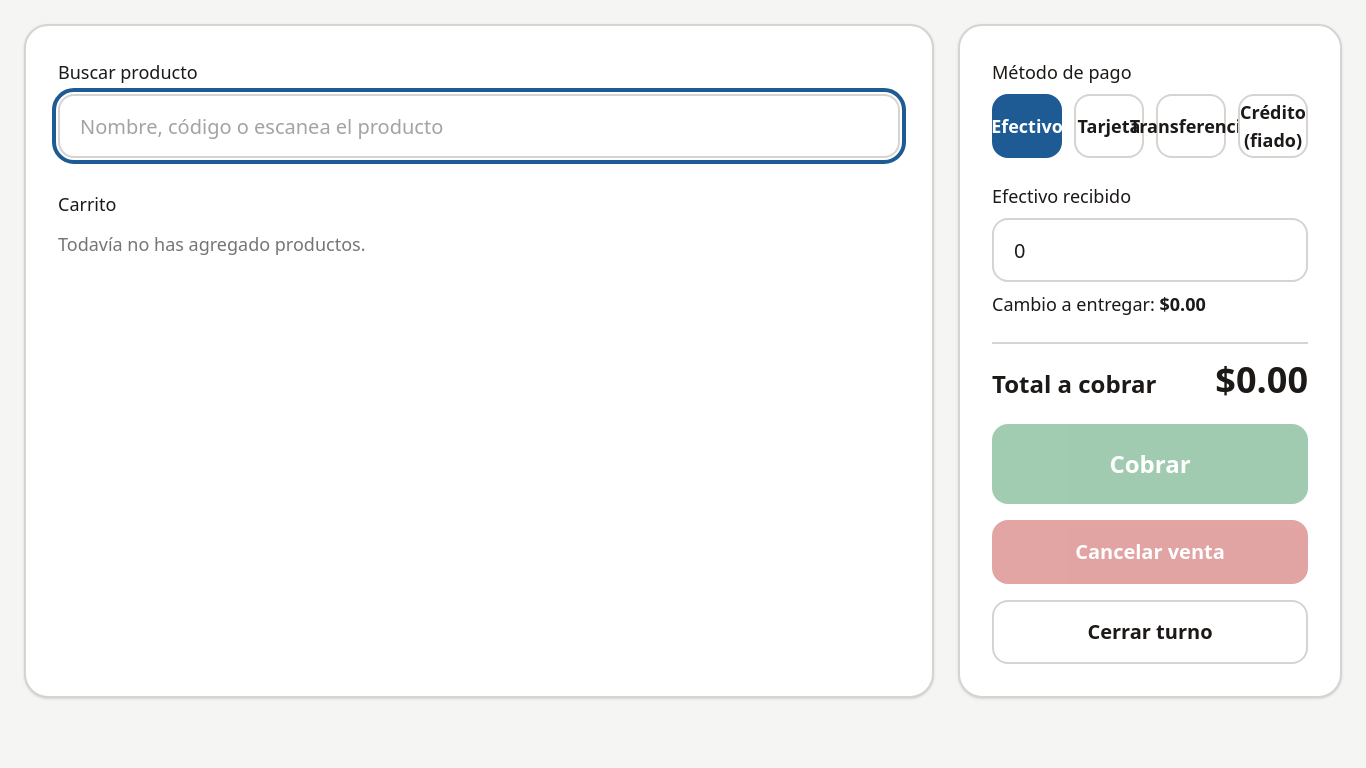
Scenario: SaleScreen › calcula el IVA mixto (16% y 0% en el mismo carrito) — mismo caso probado manualmente contra el backend
Type "refresco" into the field labelled "Buscar producto" at (479, 126), box left=58, top=94, right=900, bottom=158
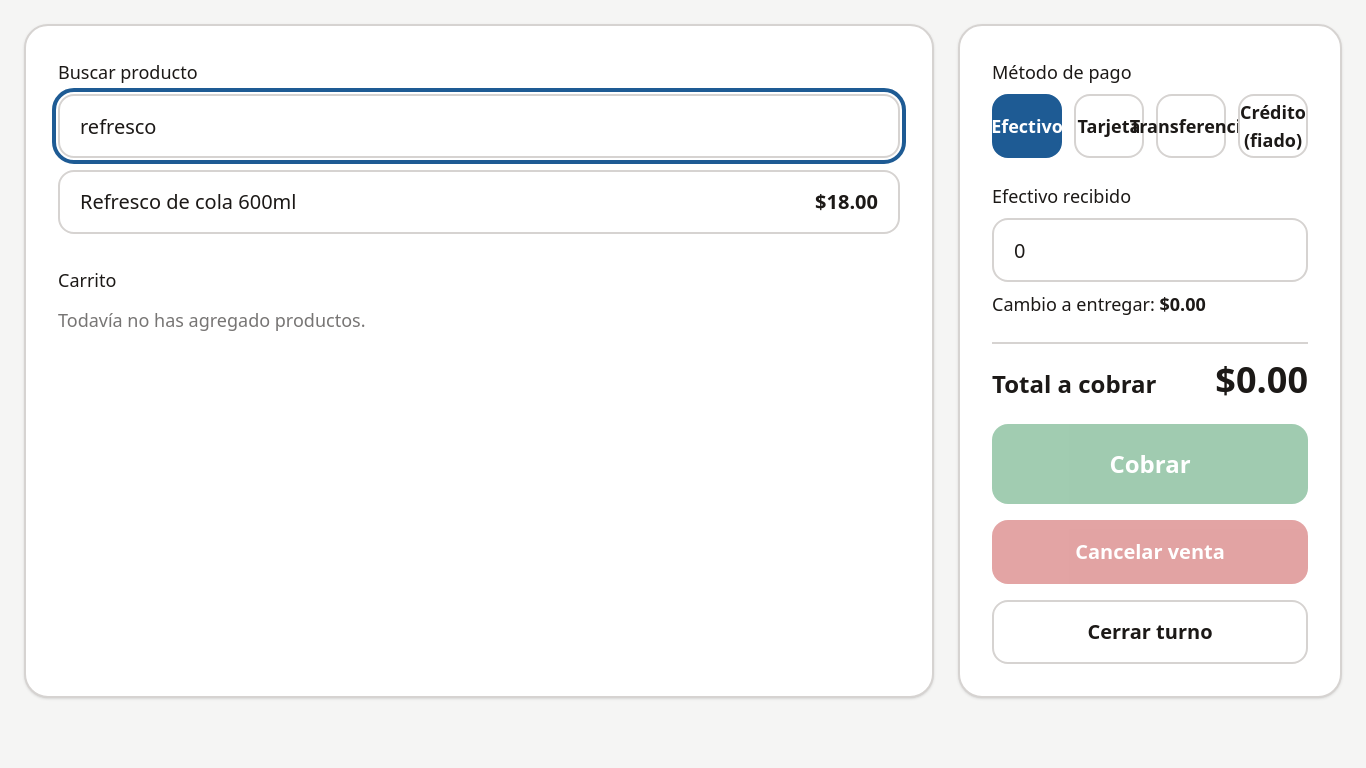
Click the button "Refresco de cola 600ml $18.00" at (188, 202), box left=58, top=170, right=900, bottom=234
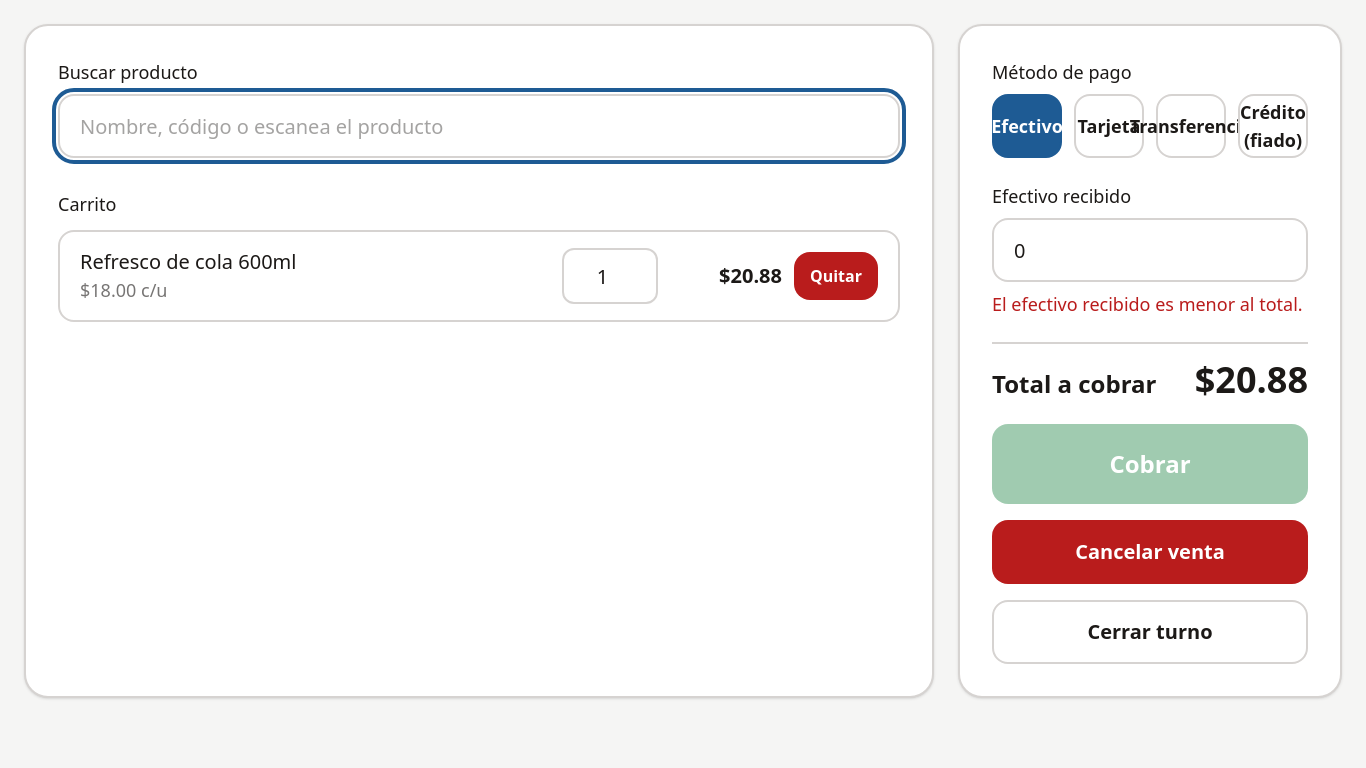
Type "leche" into the field labelled "Buscar producto" at (479, 126), box left=58, top=94, right=900, bottom=158
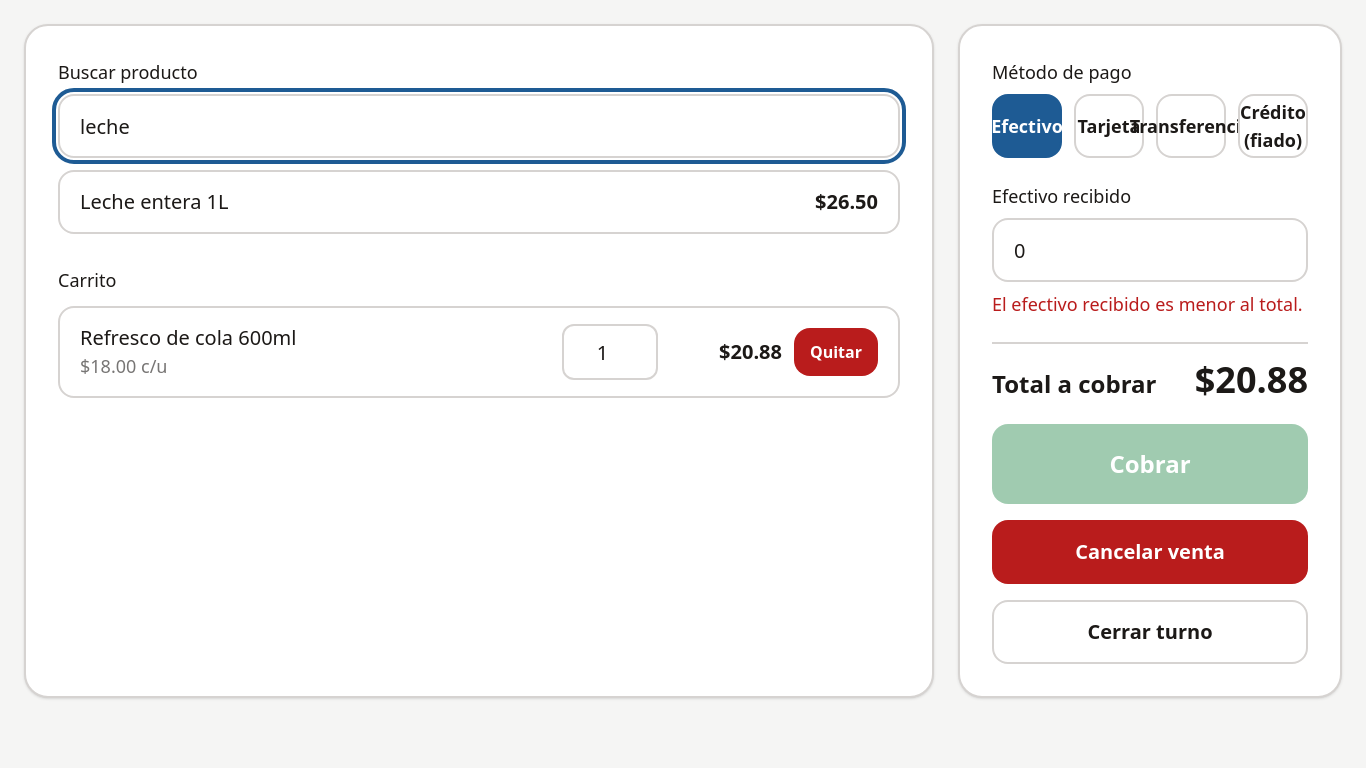
Click the button "Leche entera 1L $26.50" at (154, 202), box left=58, top=170, right=900, bottom=234
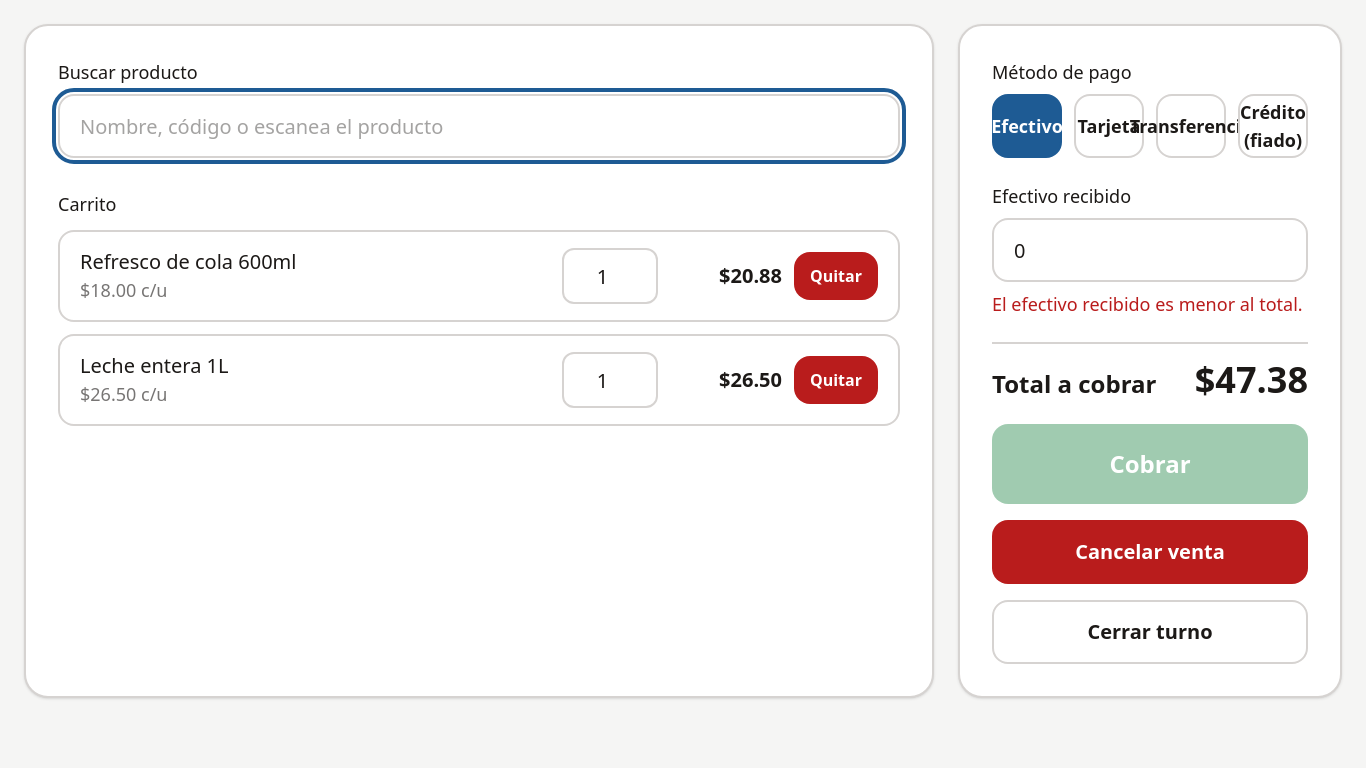
Expected: the text "$47.38" is shown, left=1195, top=360, right=1308, bottom=400
